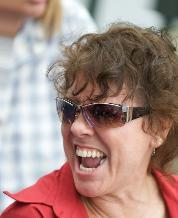face: (62, 96, 121, 177)
